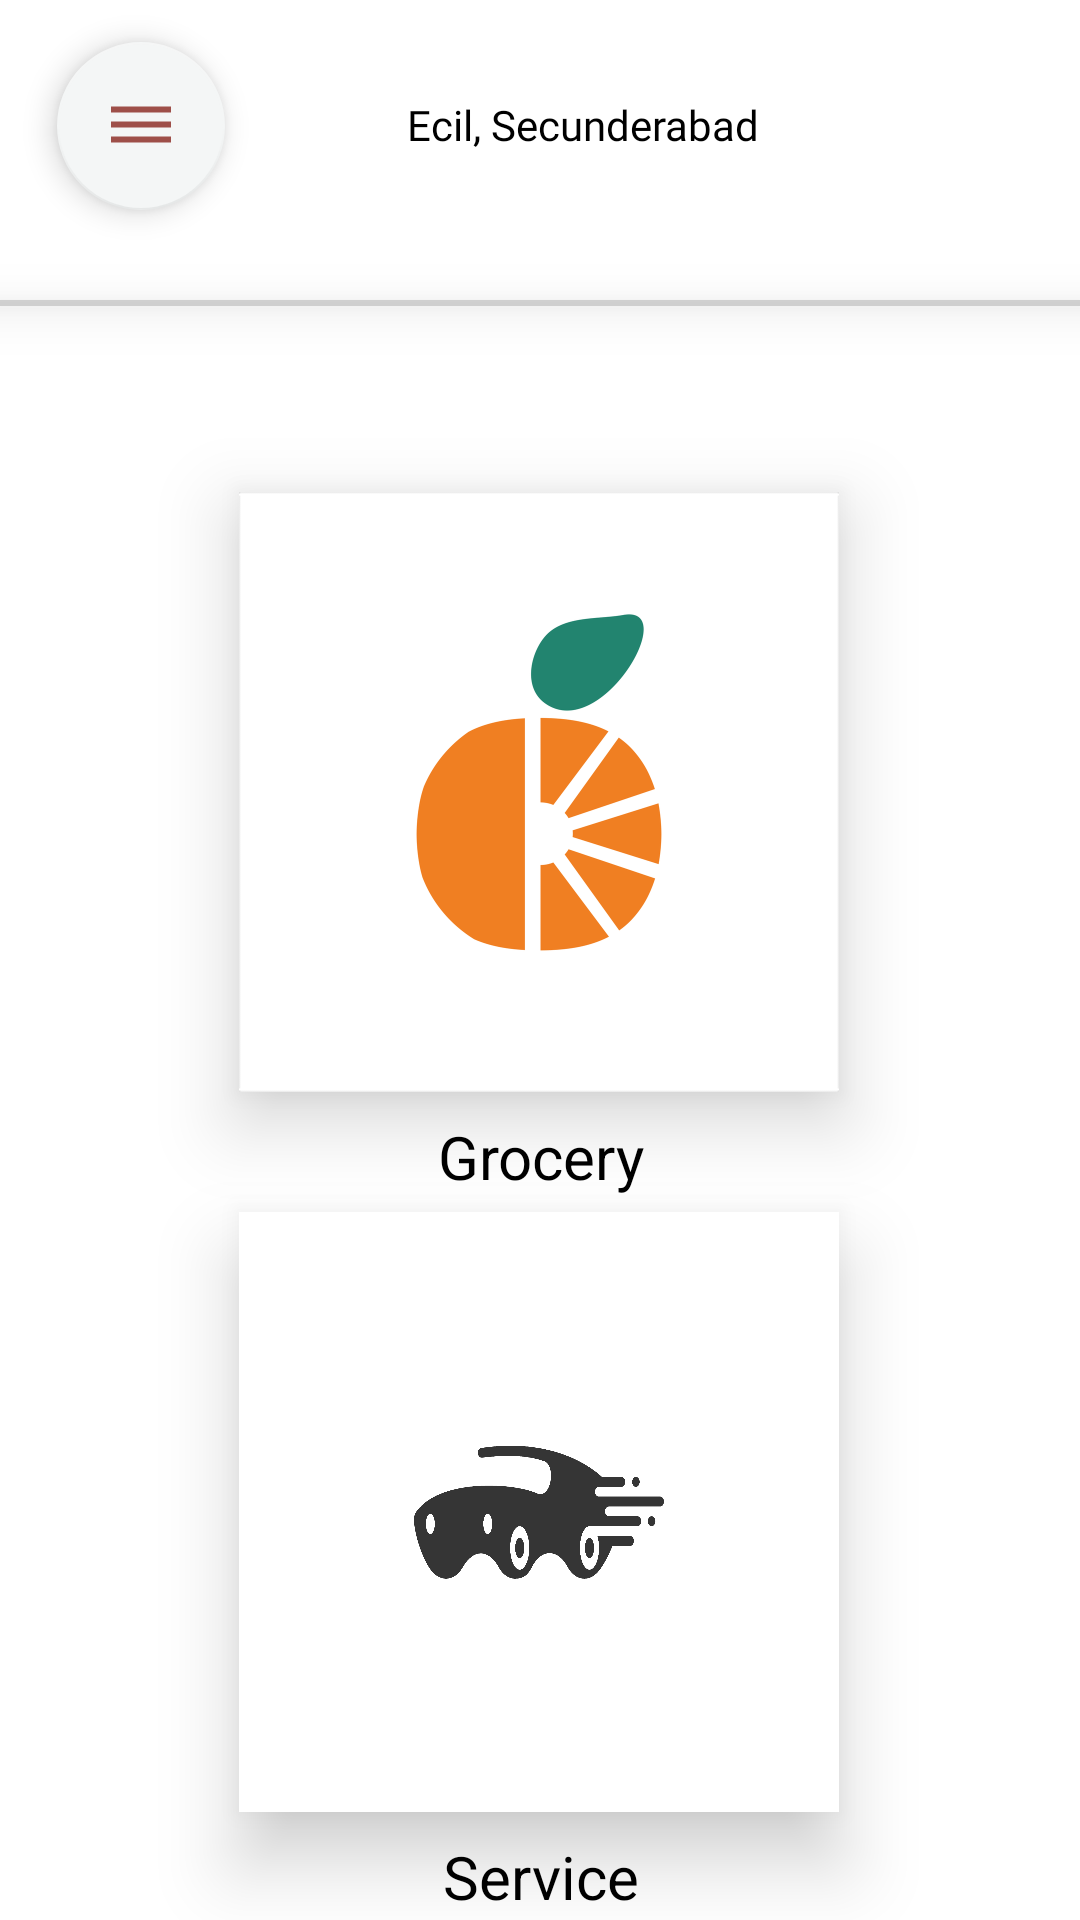

Icons on this 1080*1920 Android screen, each with its box as (x1, y1, x2, y2):
dehaze: (57, 42, 225, 210)
